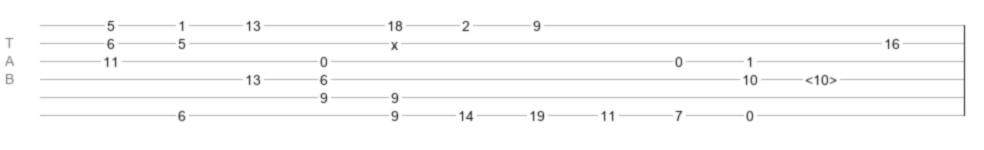0: (320, 54, 328, 64), (675, 54, 683, 64), (746, 108, 754, 118)
1: (178, 18, 186, 28), (746, 54, 754, 64)
10: (742, 72, 758, 82)
11: (103, 54, 119, 64), (600, 108, 616, 118)
13: (245, 72, 261, 82), (245, 18, 261, 28)
14: (458, 108, 474, 118)
16: (884, 36, 900, 46)
18: (387, 18, 403, 28)
19: (529, 108, 545, 118)
2: (462, 18, 470, 28)
5: (107, 18, 115, 28), (178, 36, 186, 46)
6: (107, 36, 115, 46), (178, 108, 186, 118), (320, 72, 328, 82)
7: (675, 108, 683, 118)
9: (320, 90, 328, 100), (391, 108, 399, 118), (391, 90, 399, 100), (533, 18, 541, 28)
harmonic: (805, 72, 837, 82)
x: (391, 37, 398, 45)
